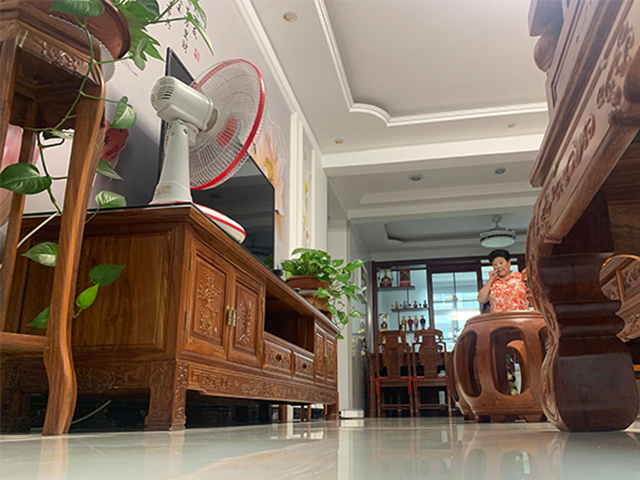cabinet: (2, 201, 340, 431)
sofa: (525, 1, 640, 432)
stool: (447, 310, 547, 425), (411, 327, 452, 417), (373, 329, 414, 418)
